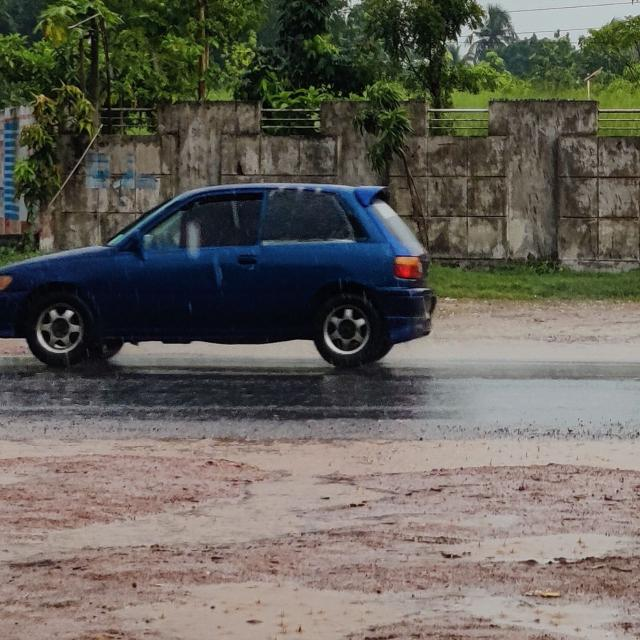Car: (1, 170, 442, 378)
